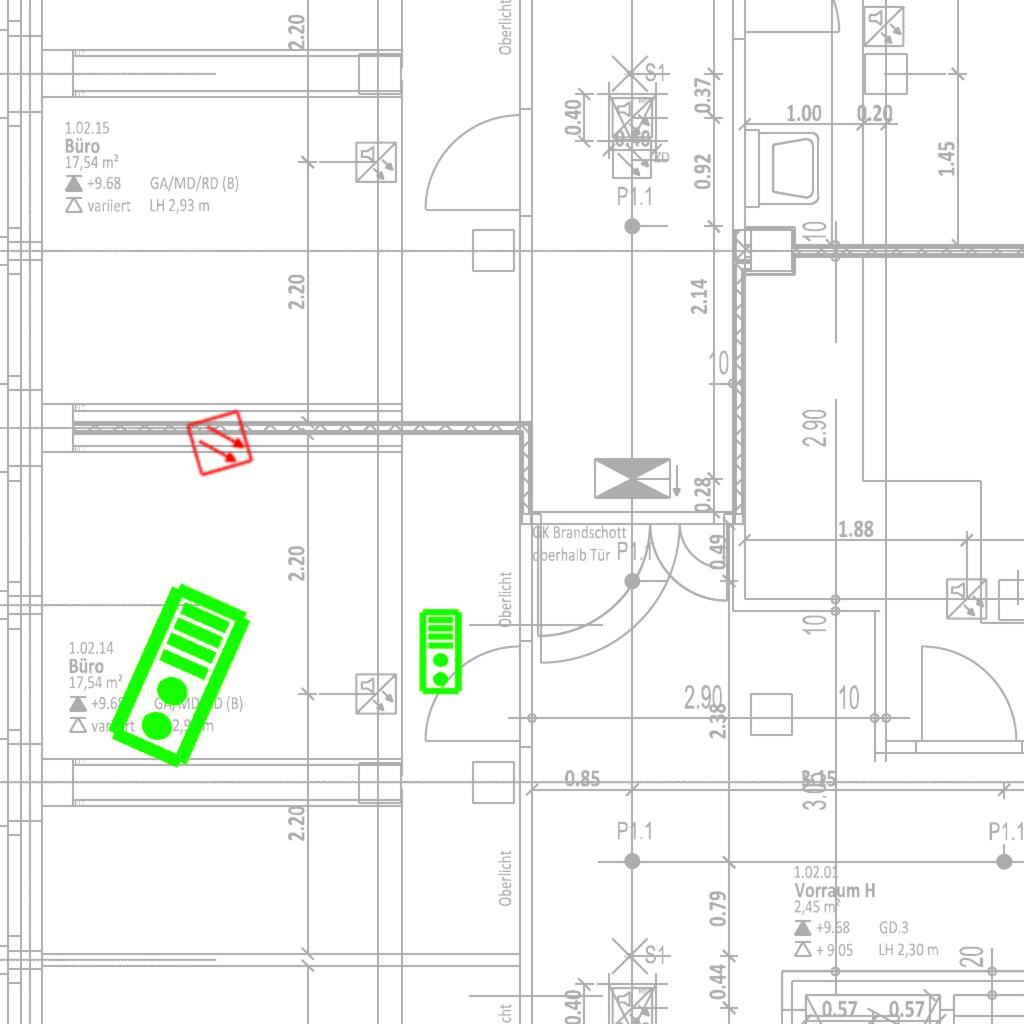Gegensprechanlage_mit_Video: (101, 577, 260, 777), (418, 608, 465, 696)
RMO_Rauchmelder_optischer: (185, 408, 255, 478)
